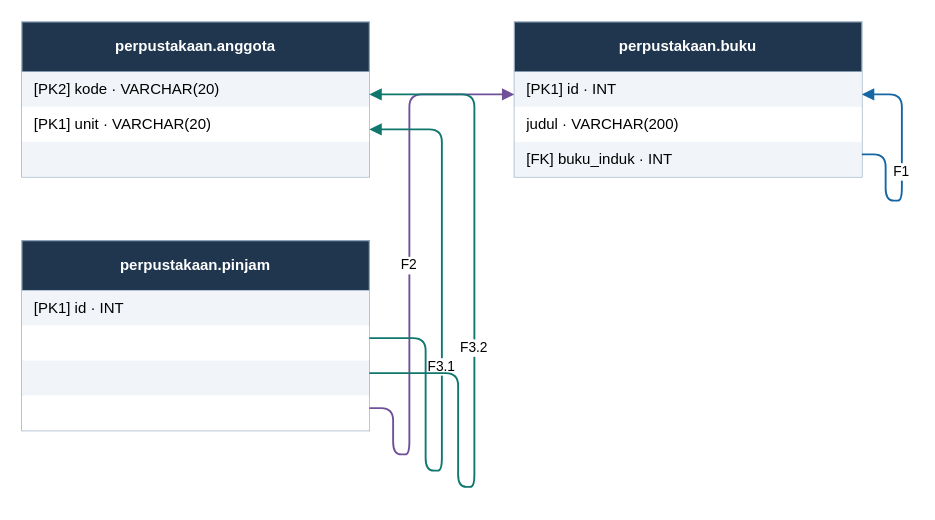
Image size: 935x520. Some labels were removed from this diagram. The centre of each missing label's shape, as x and y in pixels:
[FK] buku_id · INT: (x=195, y=412)
[FK] kode_anggota · VARCHAR(20): (x=195, y=377)
[FK] unit_anggota · VARCHAR(20): (x=195, y=342)
nama · VARCHAR(100): (x=195, y=158)
